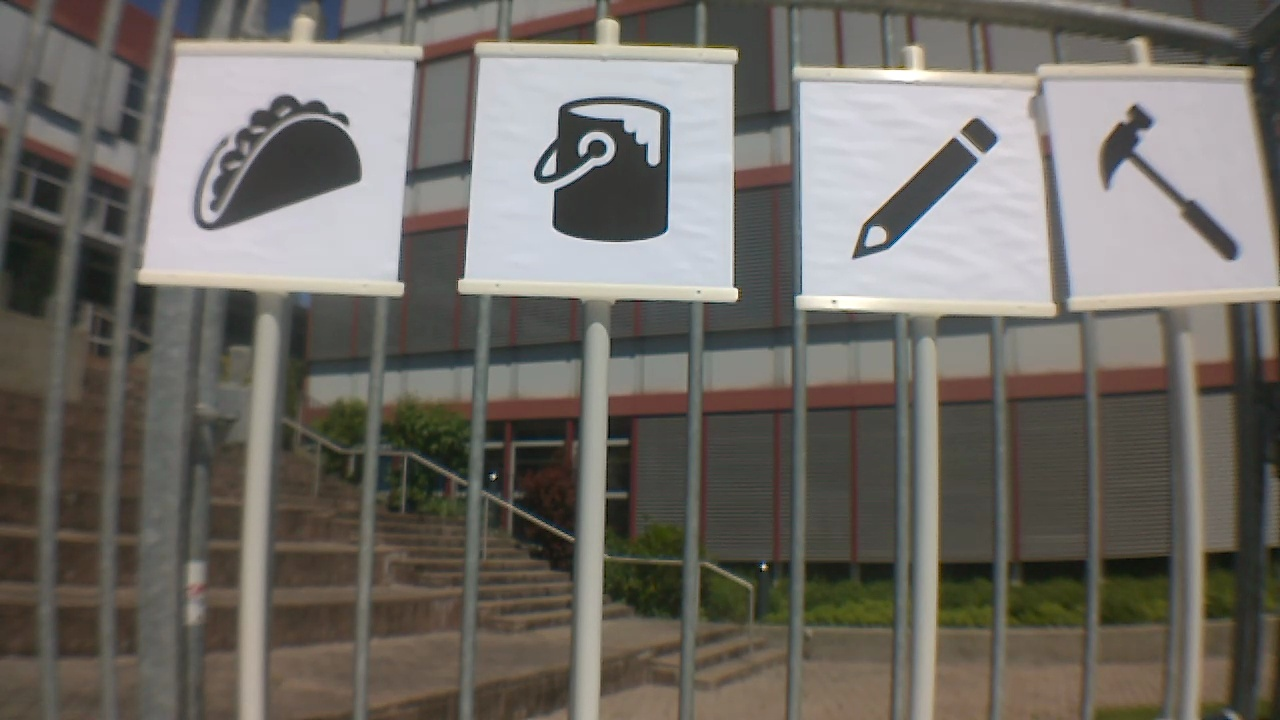bucket: (525, 89, 677, 239)
hammer: (1094, 103, 1247, 266)
pencil: (847, 115, 1000, 256)
taco: (180, 94, 372, 232)
